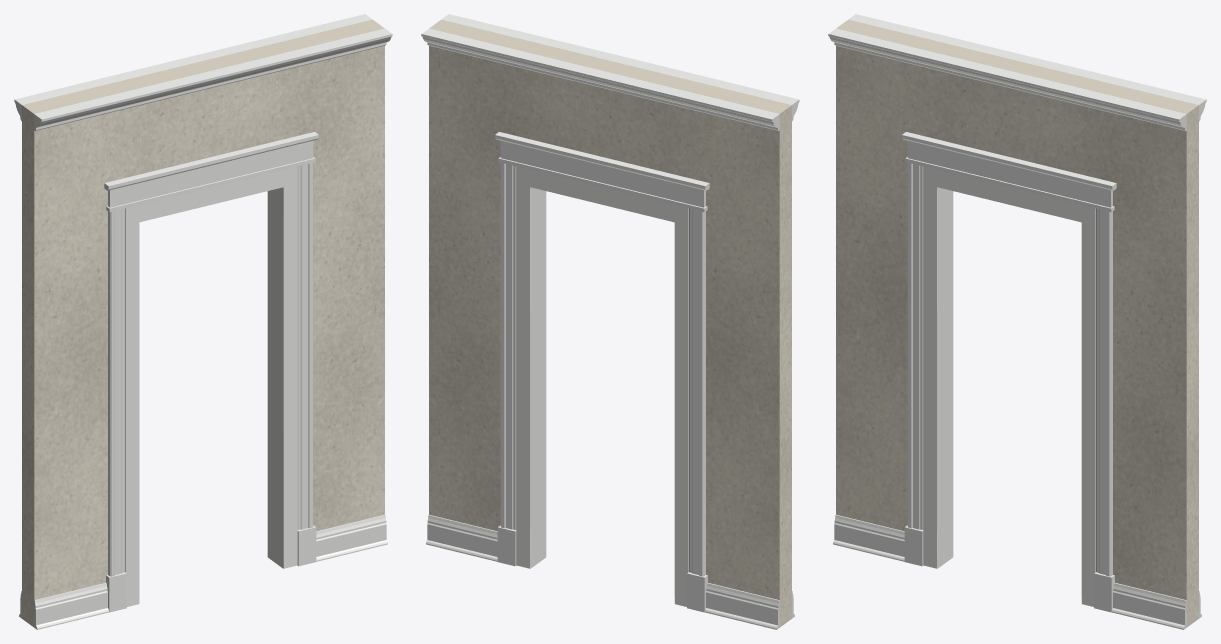
The model's file is interior_wall_doorway.glb.
3 views of the same model, side by side, from view 1: azimuth 30°, elevation 25°; view 2: azimuth 150°, elevation 25°; view 3: azimuth 330°, elevation 25° (orthographic).
Parts seen in each view (by area): view 1: interior_wall_doorway_plaster, molduras, interior_wall_doorway_frame; view 2: interior_wall_doorway_plaster, molduras, interior_wall_doorway_frame; view 3: interior_wall_doorway_plaster, molduras, interior_wall_doorway_frame.
Part boxes in pixels (x1,y1,x2,y2): interior_wall_doorway_plaster: [22, 19, 384, 627]; molduras: [14, 14, 392, 629]; interior_wall_doorway_frame: [125, 166, 297, 606]; interior_wall_doorway_plaster: [429, 19, 791, 627]; molduras: [421, 14, 799, 629]; interior_wall_doorway_frame: [516, 166, 688, 606]; interior_wall_doorway_plaster: [836, 19, 1198, 627]; molduras: [828, 14, 1206, 629]; interior_wall_doorway_frame: [923, 166, 1095, 606].
Bounding box in the file's own units: 2 × 2.8 × 0.27.
3 materials, 1 textured.
